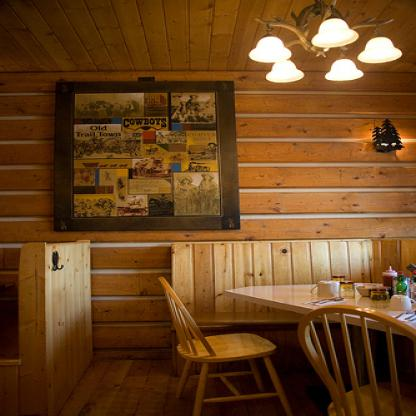bottle: (395, 272, 407, 295), (407, 271, 415, 296)
chair: (157, 276, 292, 415), (297, 304, 415, 415)
diningtable: (222, 282, 415, 339)
